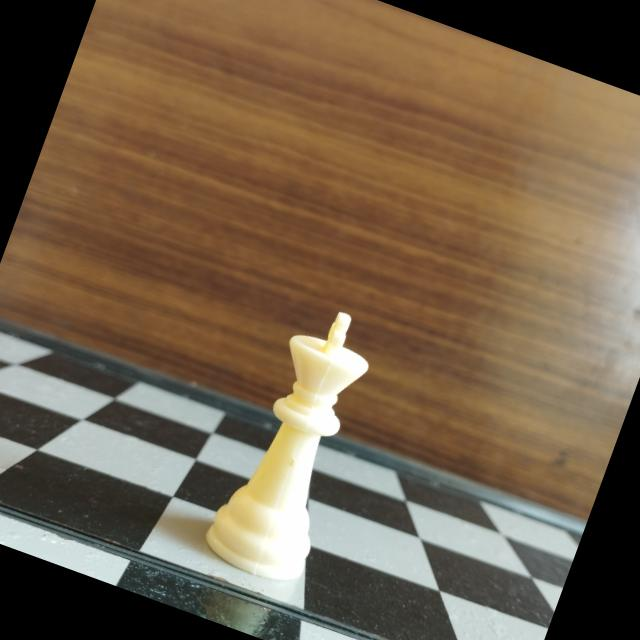White King: (192, 282, 402, 597)
